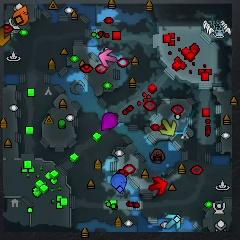p1: (111, 173, 128, 193)
p3: (101, 112, 119, 132)
p5: (14, 6, 29, 27)
x1: (99, 49, 116, 68)
x2: (161, 119, 177, 136)
x3: (165, 214, 181, 228)
x5: (0, 28, 12, 47)
